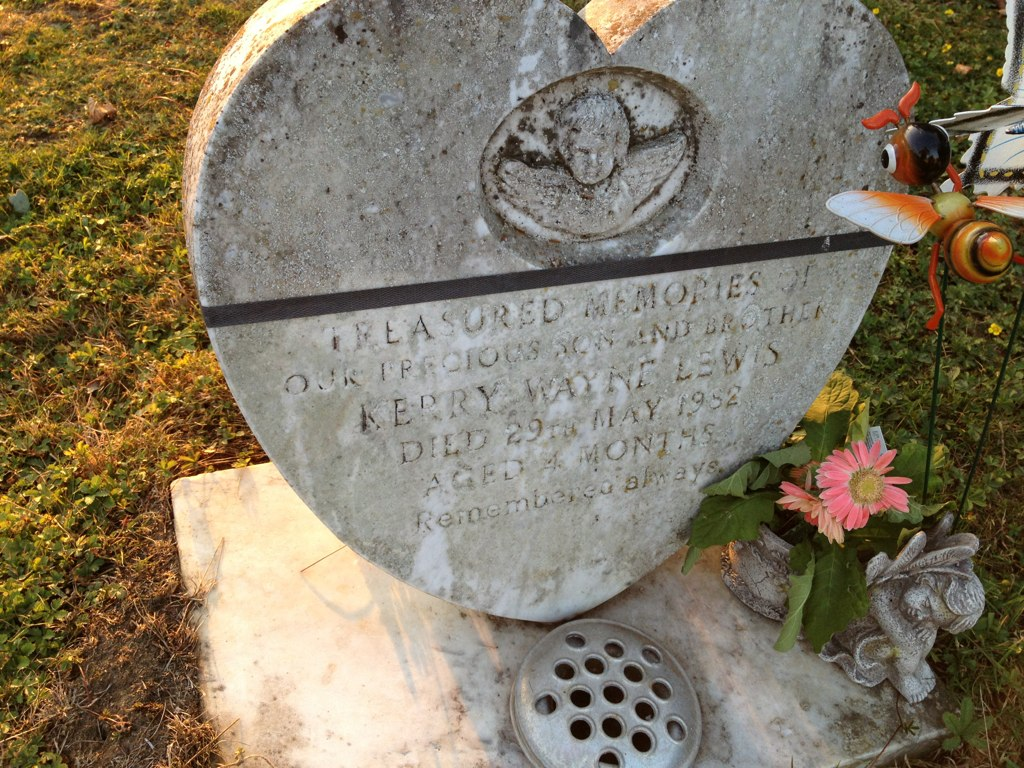upright: (163, 0, 954, 761)
